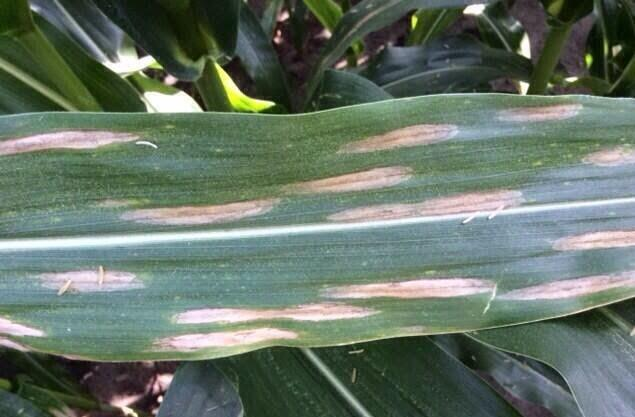Corn_Blight: (155, 305, 465, 361), (285, 161, 539, 224), (4, 119, 180, 183), (311, 257, 503, 306), (30, 253, 163, 295), (340, 122, 477, 156), (101, 195, 278, 220), (547, 228, 634, 258), (500, 104, 596, 131), (514, 280, 635, 296), (574, 149, 635, 180)
